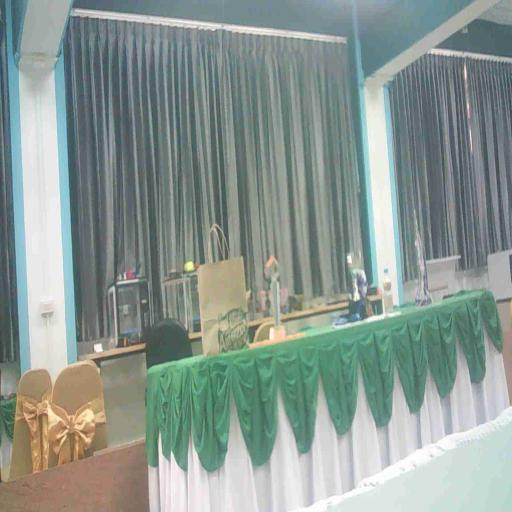bag: (192, 241, 255, 368)
